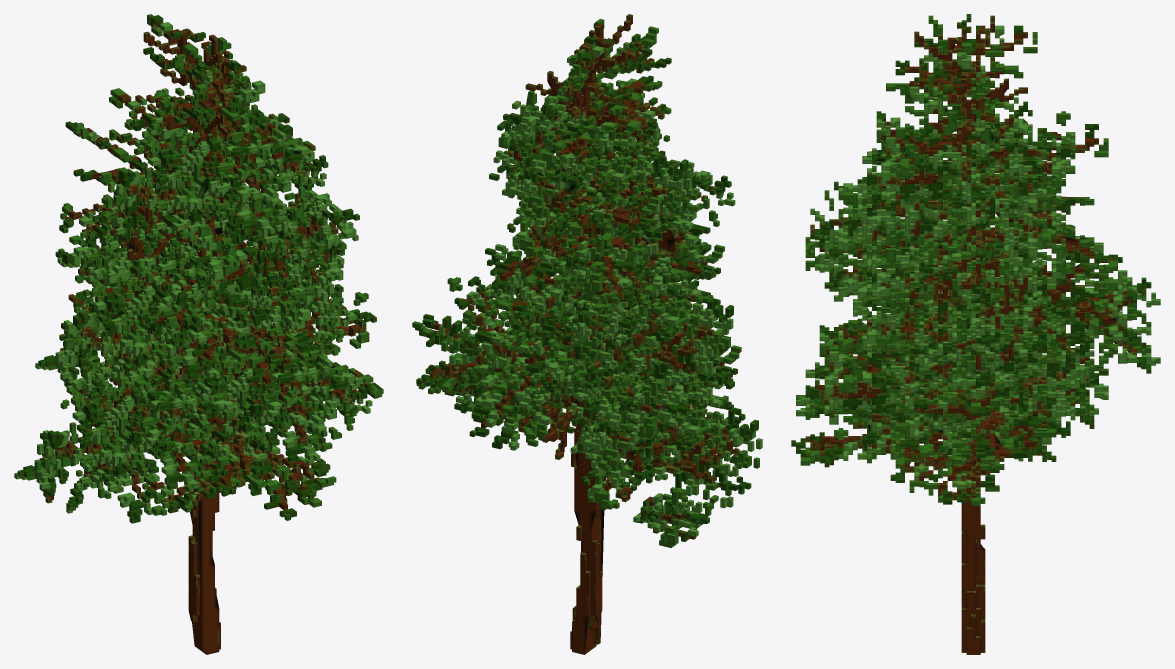
Rendered from Arvore1.fbx.
3 renders of one model, left to right at view 1: azimuth 30°, elevation 25°; view 2: azimuth 150°, elevation 25°; view 3: azimuth 270°, elevation 25°, orthographic.
Visible parts, largest first — view 1: Árvore1; view 2: Árvore1; view 3: Árvore1.
Boxes of the visible parts, x1=… form: Árvore1: x1=14, y1=14, x2=383, y2=654; Árvore1: x1=412, y1=14, x2=762, y2=654; Árvore1: x1=791, y1=14, x2=1160, y2=654.
Size of the model in its own units: 810 by 1420 by 780.
